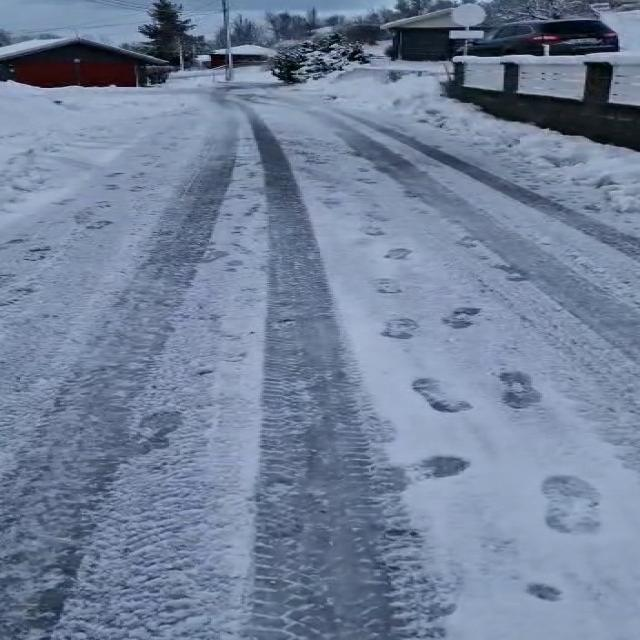path: (0, 85, 640, 640)
